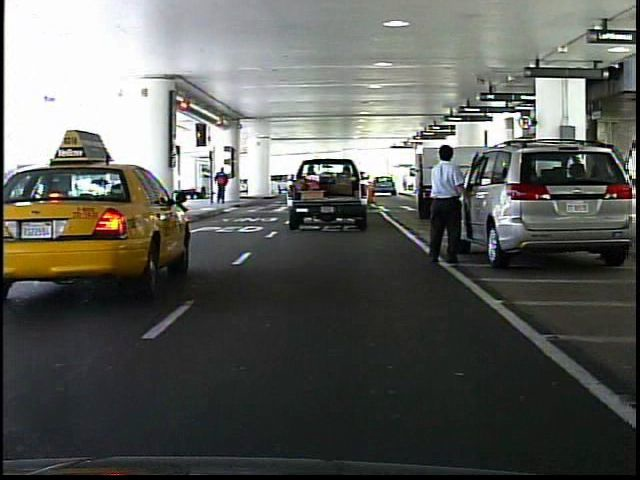person: (419, 140, 474, 273), (212, 164, 231, 207)
